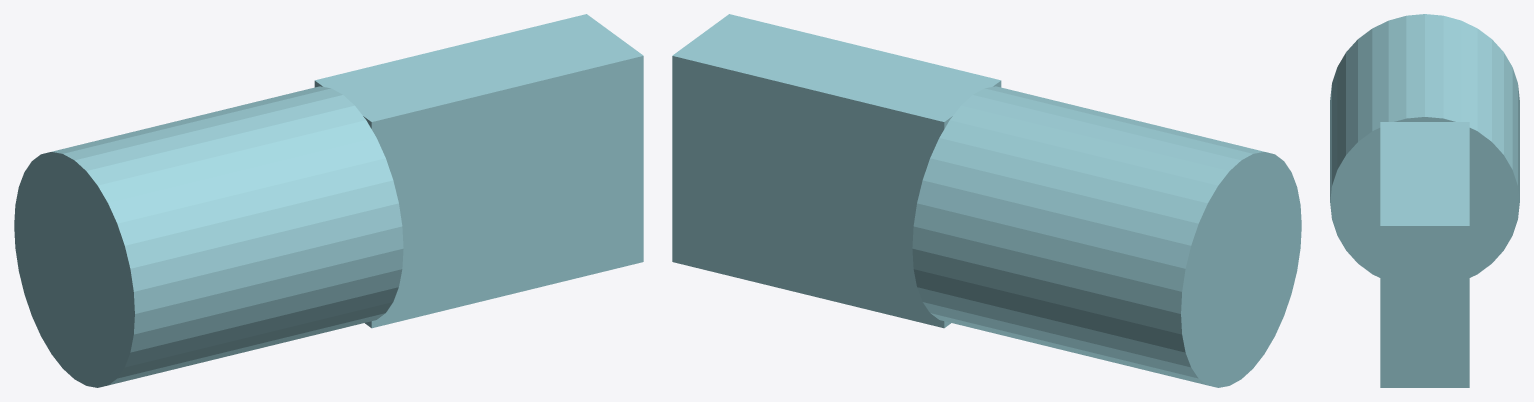
The model's file is cylinder_brush_v11003.obj.
The picture shows the model from 3 angles, left to right: view 1: azimuth 30°, elevation 25°; view 2: azimuth 150°, elevation 25°; view 3: azimuth 270°, elevation 25°; orthographic projection. The views are drawn at different scales.
Bounding box in the file's own units: 0.1468 × 0.0568 × 0.0568.
1 material, 1 textured.
